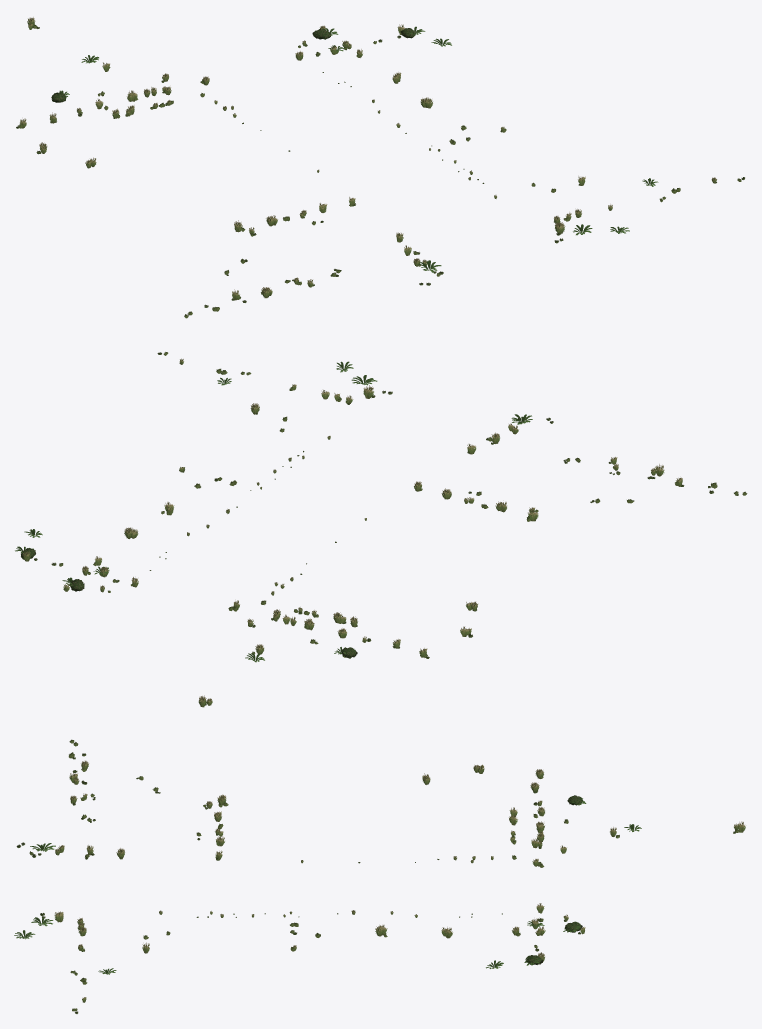
Rendered from ground_plants28.glb.
3 renders of one model, top to bottom at view 1: azimuth 30°, elevation 25°; view 2: azimuth 150°, elevation 25°; view 3: azimuth 270°, elevation 25°, orthographic. The views are drawn at different scales.
Parts seen in each view (by area): view 1: plants_grass, plants_fern; view 2: plants_grass, plants_fern; view 3: plants_grass, plants_fern.
Part boxes in pixels (x1,y1,x2,y2): plants_grass: (16,17,744,318); plants_fern: (55,26,658,272); plants_grass: (23,352,747,707); plants_fern: (15,361,532,662); plants_grass: (16,739,745,1013); plants_fern: (14,798,641,974).
Size of the model in its own units: 38.86 by 0.8113 by 44.03.
2 materials, 2 textured.
